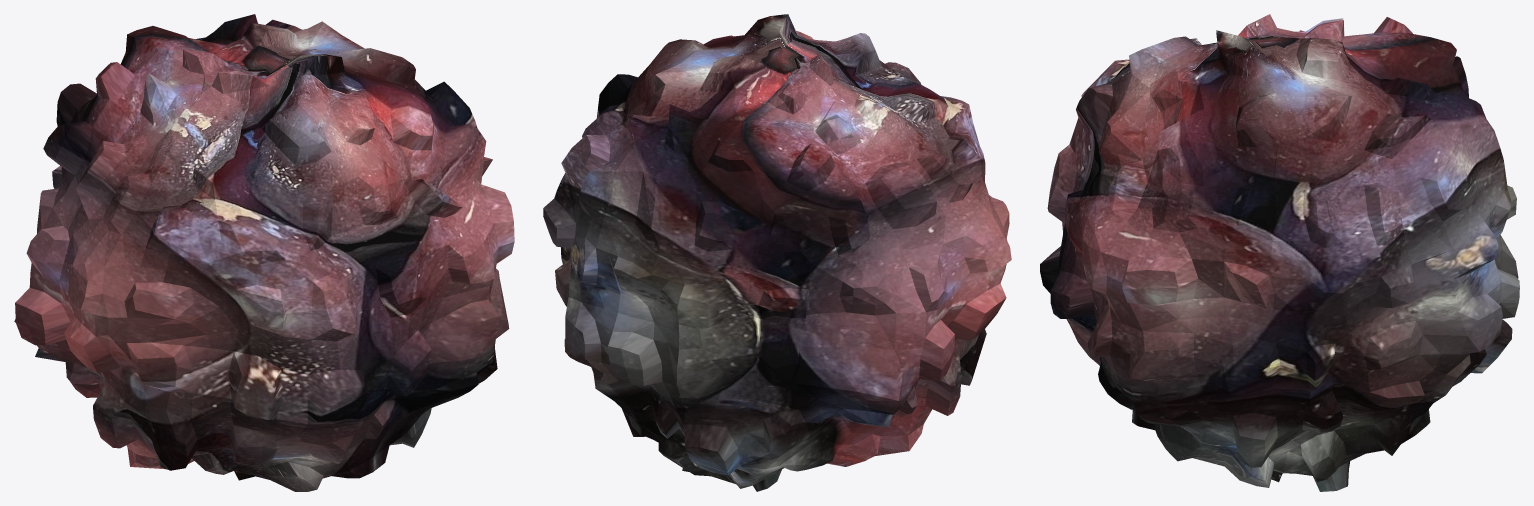
The model's file is food.glb.
3 renders of one model, left to right at view 1: azimuth 30°, elevation 25°; view 2: azimuth 150°, elevation 25°; view 3: azimuth 270°, elevation 25°, orthographic. The views are drawn at different scales.
Parts seen in each view (by area): view 1: Roundcube; view 2: Roundcube; view 3: Roundcube.
Part boxes in pixels (x1,y1,x2,y2): Roundcube: [14, 14, 514, 491]; Roundcube: [543, 14, 1011, 491]; Roundcube: [1040, 14, 1519, 491].
Bounding box in the file's own units: 1.07 × 1.08 × 1.06.
Materials: 1 (1 with a texture image).
